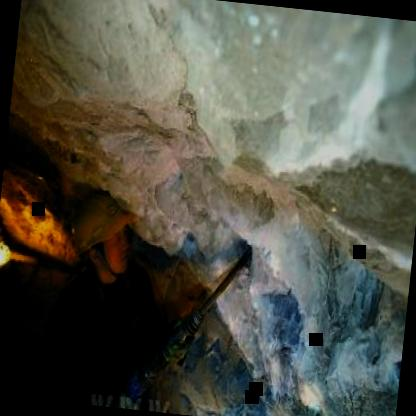helmet: (67, 192, 140, 290)
